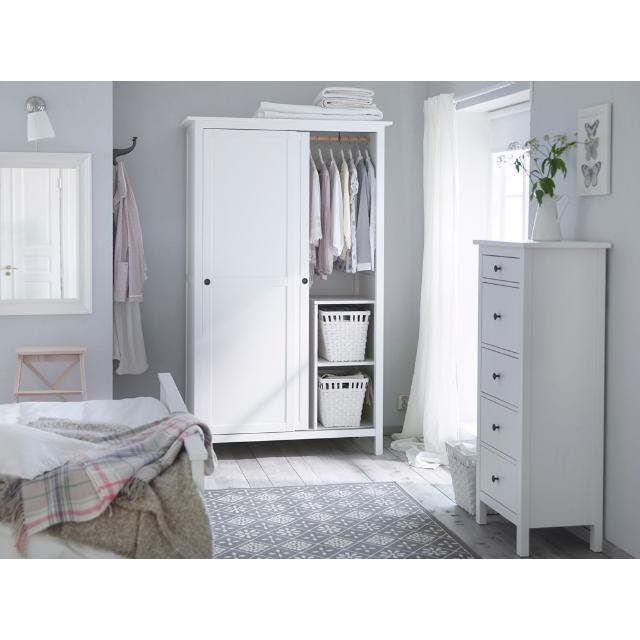bed: (0, 374, 216, 558)
curtain: (401, 94, 459, 454)
dresser: (182, 118, 391, 455), (475, 240, 610, 556)
lamp: (26, 96, 55, 142)
rug: (205, 482, 478, 558)
stool: (12, 346, 88, 403)
wall-art: (576, 104, 611, 196)
